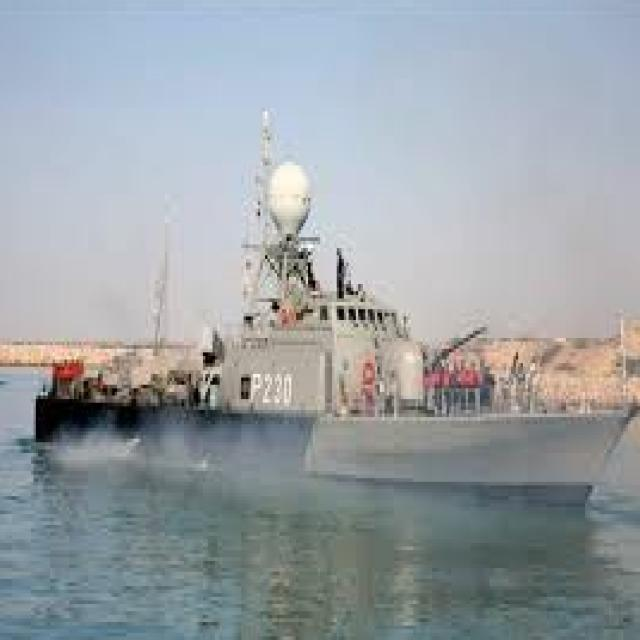navalvessels: (27, 154, 638, 509)
